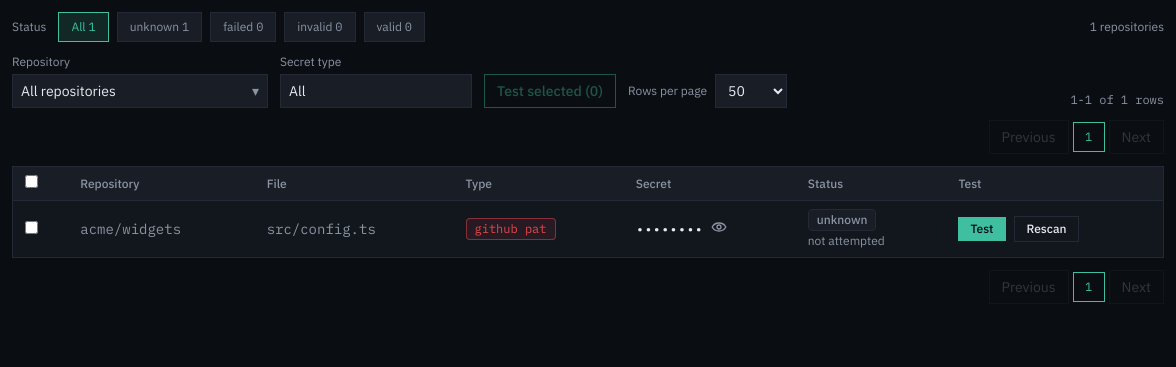
Test case: TestingPanel (regular user, scoped to own approved repos) › tests a single finding and shows the live result
What coordinates should you click on to do the following:
click the button named "Repository"
I would click on:
 (140, 91)
Its box is [12, 74, 268, 108].
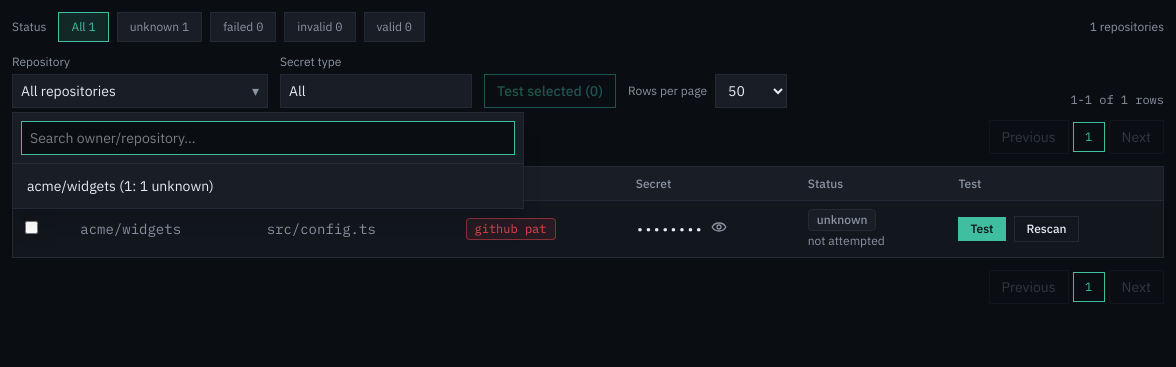
What coordinates should you click on to do the following:
click the option "acme/widgets (1: 1 unknown)"
I would click on:
 (120, 186)
Its box is [17, 168, 519, 204].
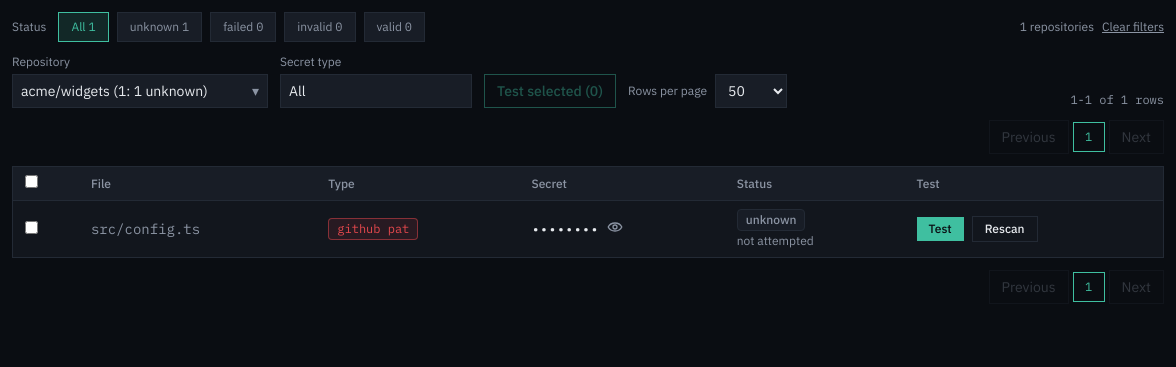
Expected: the text "src/config.ts" is shown, [79, 200, 316, 257]
What coordinates should you click on to do the following:
click the button "Test"
I would click on:
 (940, 229)
Its box is [917, 217, 964, 241].
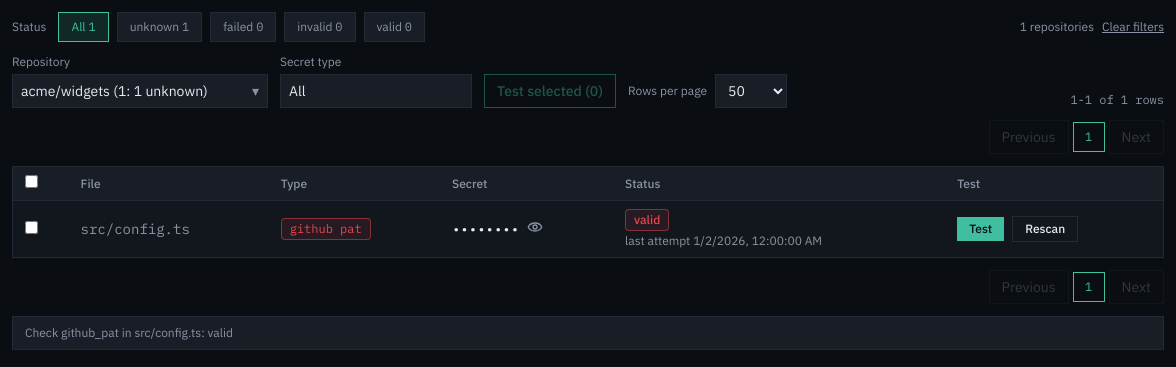
Expected: the text "Check github_pat in src/config.ts: valid" is shown, [12, 316, 1164, 350]
